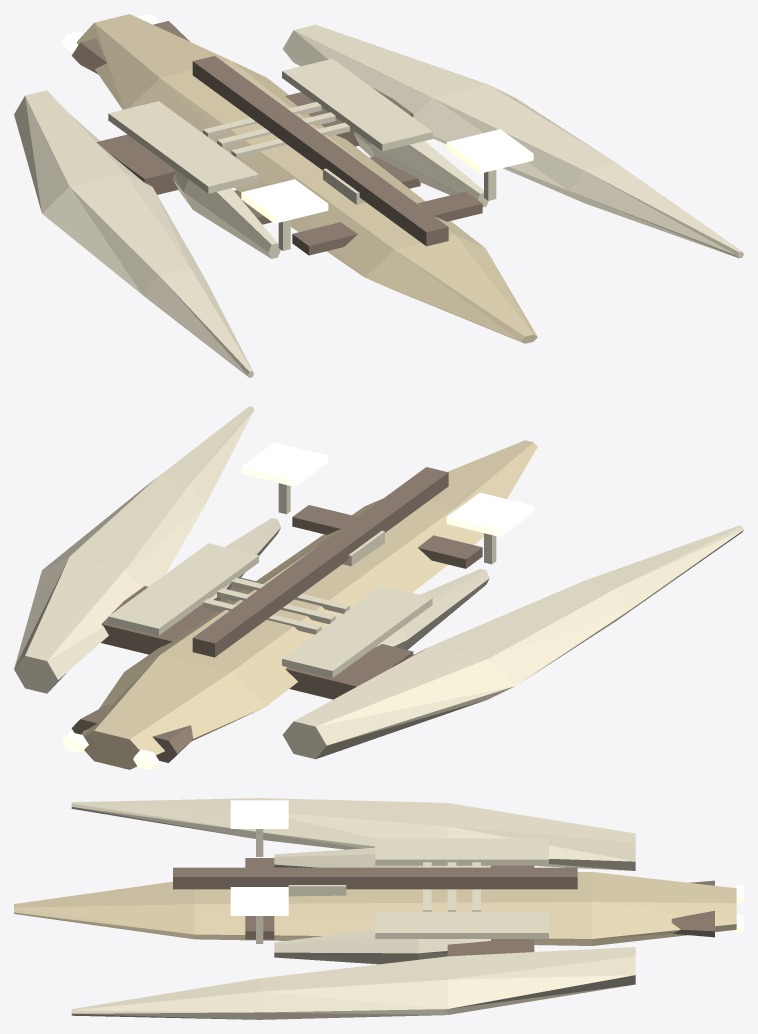
The picture shows the model from 3 angles, top to bottom: view 1: azimuth 30°, elevation 25°; view 2: azimuth 150°, elevation 25°; view 3: azimuth 270°, elevation 25°; orthographic projection. The views are drawn at different scales.
Bounding box in the file's own units: 7.41 × 1.25 × 10.91.
